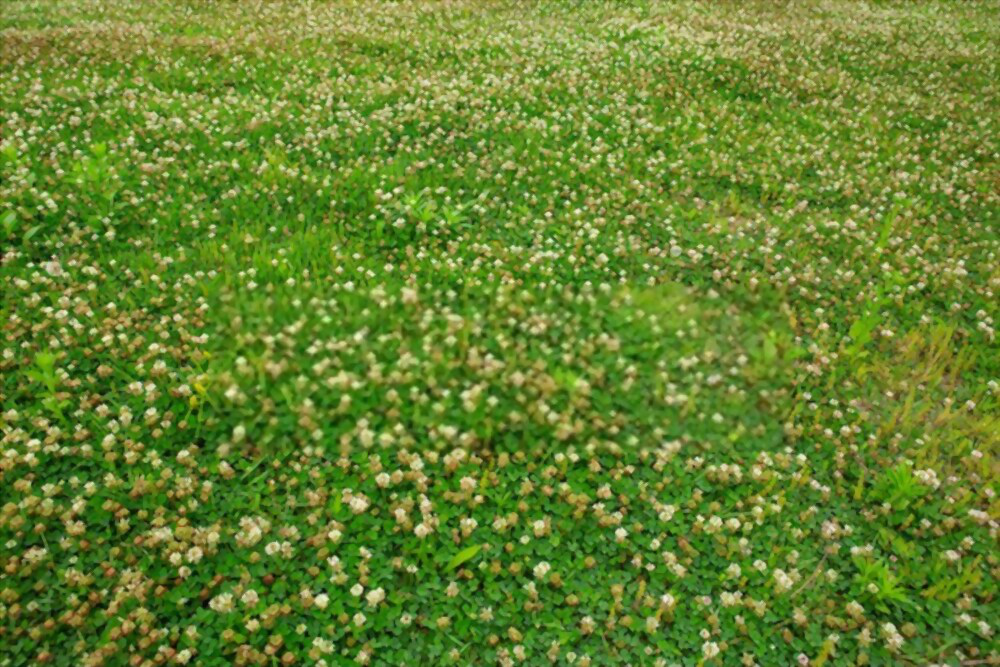clover: (14, 21, 983, 660)
